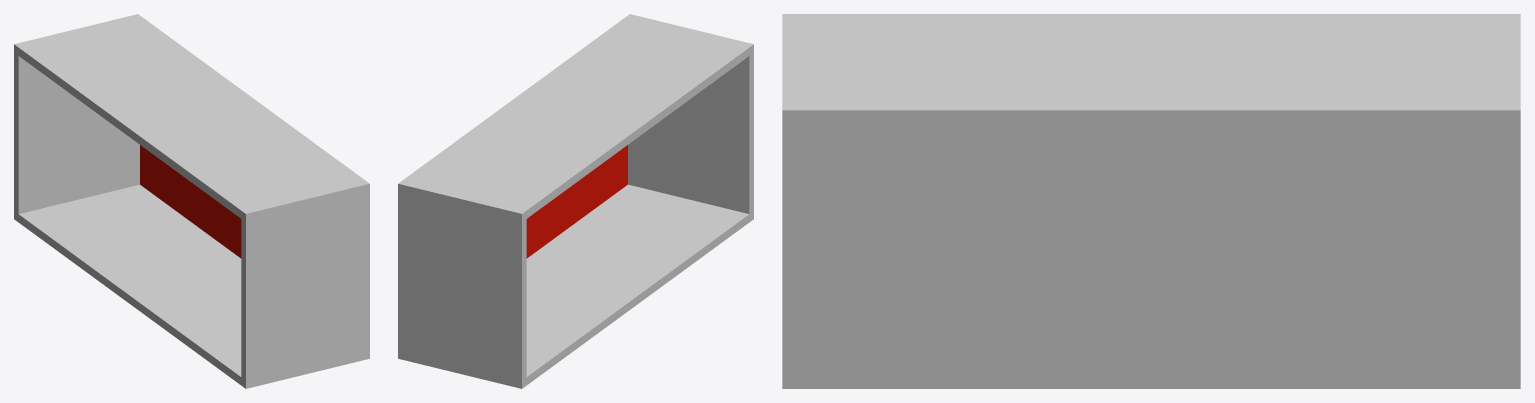
Rendered from airflow_mirrored.fbx.
The picture shows the model from 3 angles, left to right: view 1: azimuth 30°, elevation 25°; view 2: azimuth 150°, elevation 25°; view 3: azimuth 270°, elevation 25°; orthographic projection. The views are drawn at different scales.
Visible parts, largest first — view 1: Cube; view 2: Cube; view 3: Cube.
Boxes of the visible parts, bbox=[...] form: Cube: bbox=[14, 14, 369, 388]; Cube: bbox=[398, 14, 753, 388]; Cube: bbox=[782, 14, 1520, 388].
Bounding box in the file's own units: 61.74 × 83.28 × 200.
